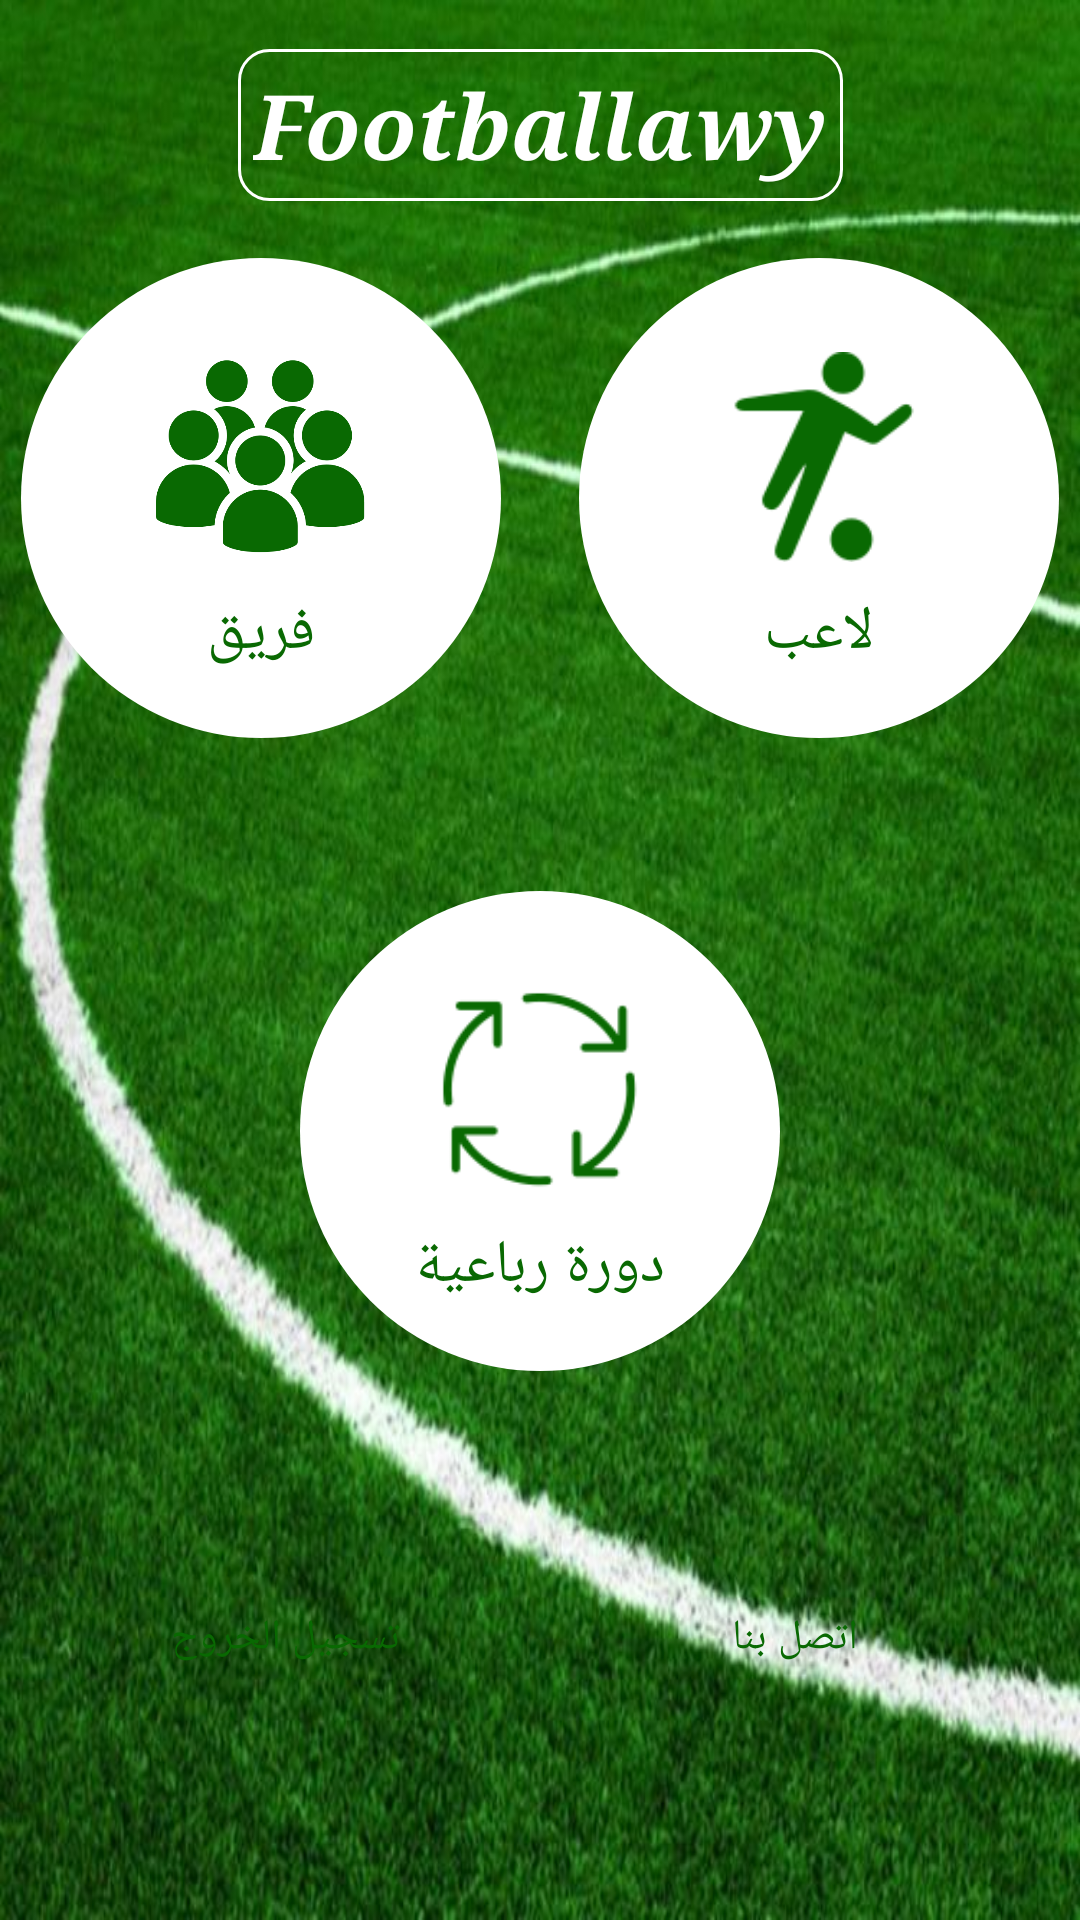

Icon click points for this 1080w x 1920h phone screenshot, format [x,y]:
cycle: [540,1090]
